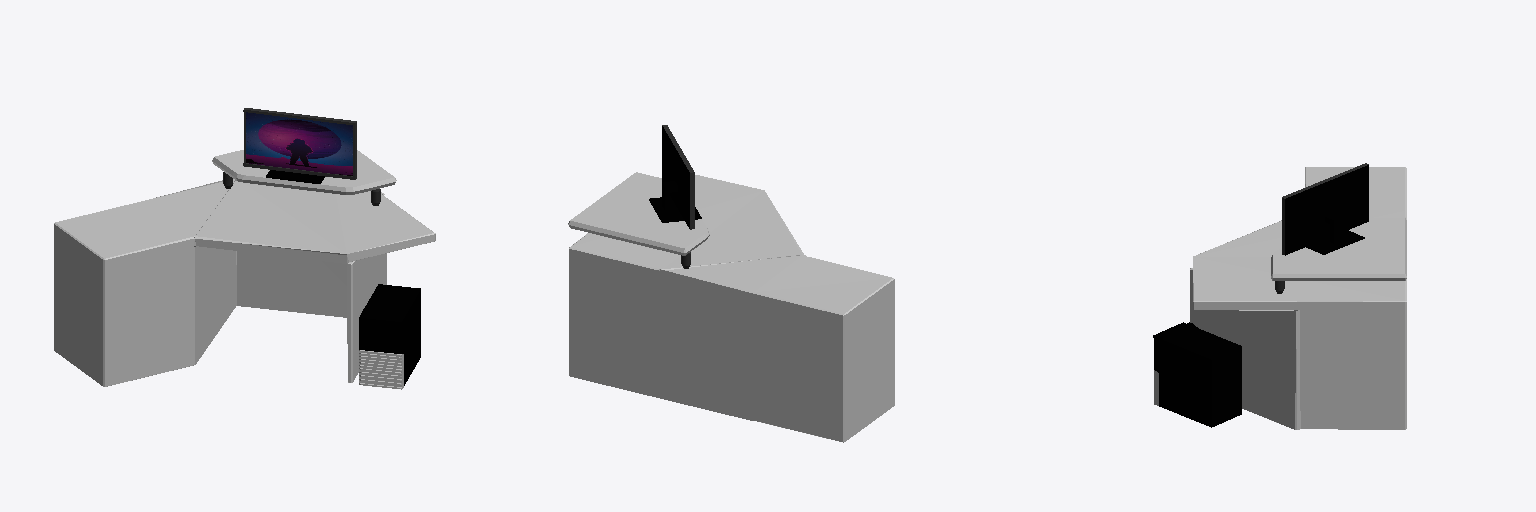
3 views of the same model, side by side, from view 1: azimuth 30°, elevation 25°; view 2: azimuth 150°, elevation 25°; view 3: azimuth 270°, elevation 25° (orthographic).
Parts seen in each view (by area): view 1: Bureau_Cube.002, Ecran_Plan.000, Ordinateur_Cube.009, PlateformeBureau_Cylindre.006; view 2: Bureau_Cube.002, PlateformeBureau_Cylindre.006, Ecran_Plan.000; view 3: Bureau_Cube.002, Ordinateur_Cube.009, Ecran_Plan.000, PlateformeBureau_Cylindre.006.
Part boxes in pixels (x1,y1,x2,y2): Bureau_Cube.002: (54, 179, 435, 386); Ecran_Plan.000: (243, 108, 356, 183); Ordinateur_Cube.009: (359, 284, 420, 389); PlateformeBureau_Cylindre.006: (212, 150, 396, 205); Bureau_Cube.002: (569, 175, 894, 442); PlateformeBureau_Cylindre.006: (568, 172, 709, 268); Ecran_Plan.000: (649, 125, 701, 229); Bureau_Cube.002: (1190, 167, 1406, 429); Ordinateur_Cube.009: (1153, 322, 1241, 427); Ecran_Plan.000: (1282, 163, 1368, 255); PlateformeBureau_Cylindre.006: (1271, 218, 1406, 293).
Size of the model in its own units: 7.7 by 5.67 by 6.08.
Materials: 8 (1 with a texture image).